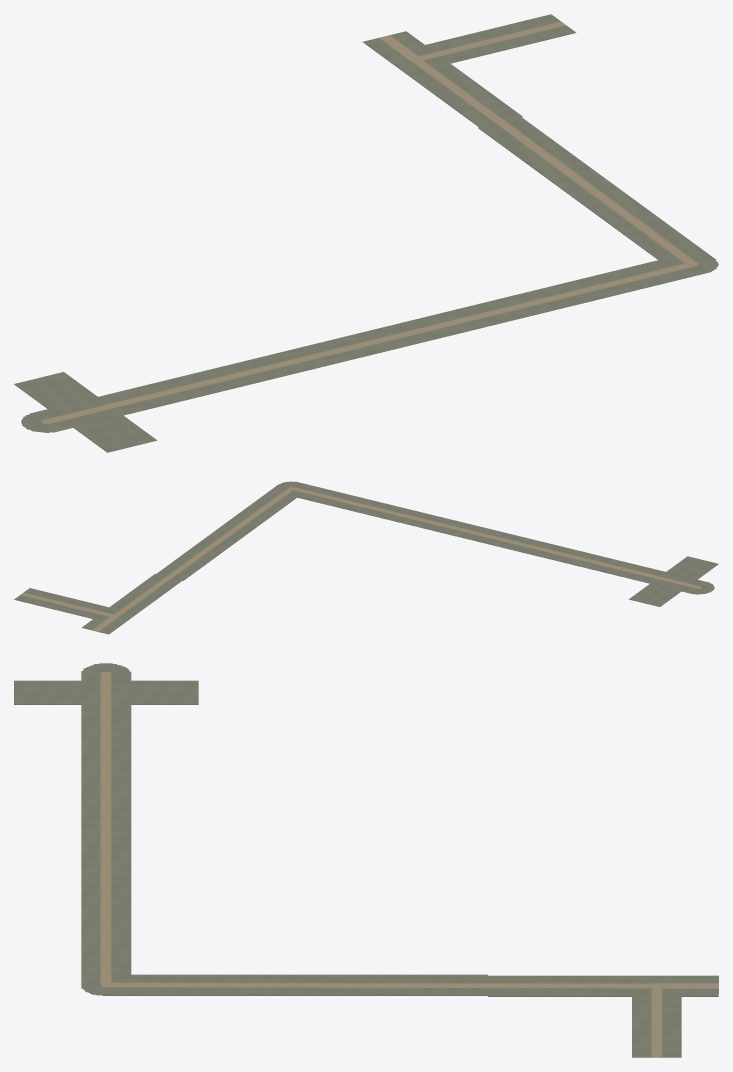
The model's file is joined-route-terrain.glb.
3 renders of one model, top to bottom at view 1: azimuth 30°, elevation 25°; view 2: azimuth 150°, elevation 25°; view 3: azimuth 270°, elevation 25°, orthographic. The views are drawn at different scales.
Visible parts, largest first — view 1: C_route_terrain_joined_north; view 2: C_route_terrain_joined_north; view 3: C_route_terrain_joined_north.
Boxes of the visible parts, x1=… form: C_route_terrain_joined_north: x1=14, y1=14, x2=718, y2=452; C_route_terrain_joined_north: x1=14, y1=481, x2=718, y2=634; C_route_terrain_joined_north: x1=14, y1=663, x2=718, y2=1057.
Size of the model in its own units: 525 by 0.21 by 397.
